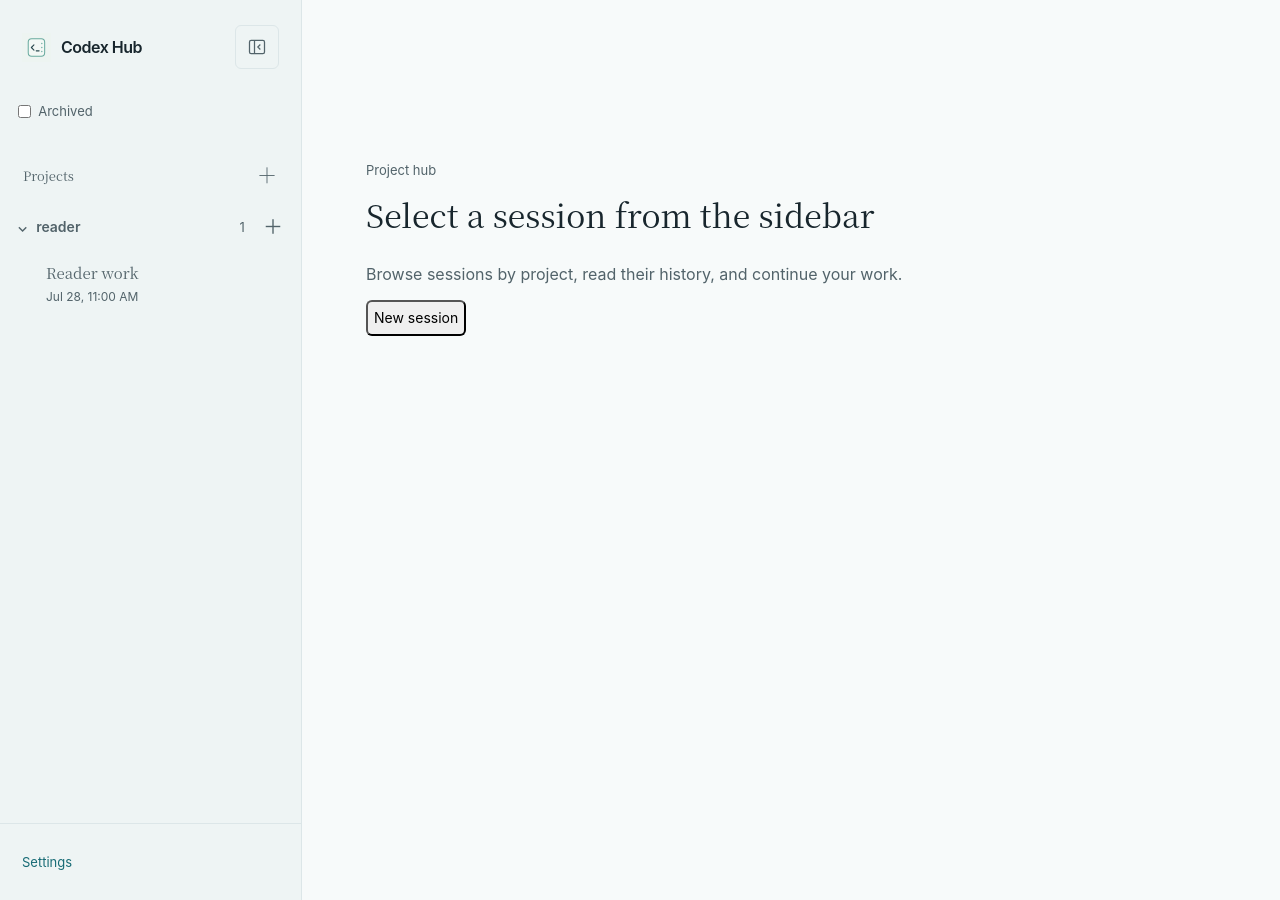
Test case: unified hub › uses project-prefilled creation dialogs and persists collapsed projects
Click the button named "New session in reader" at x=273, y=227, box [255,205,291,249]
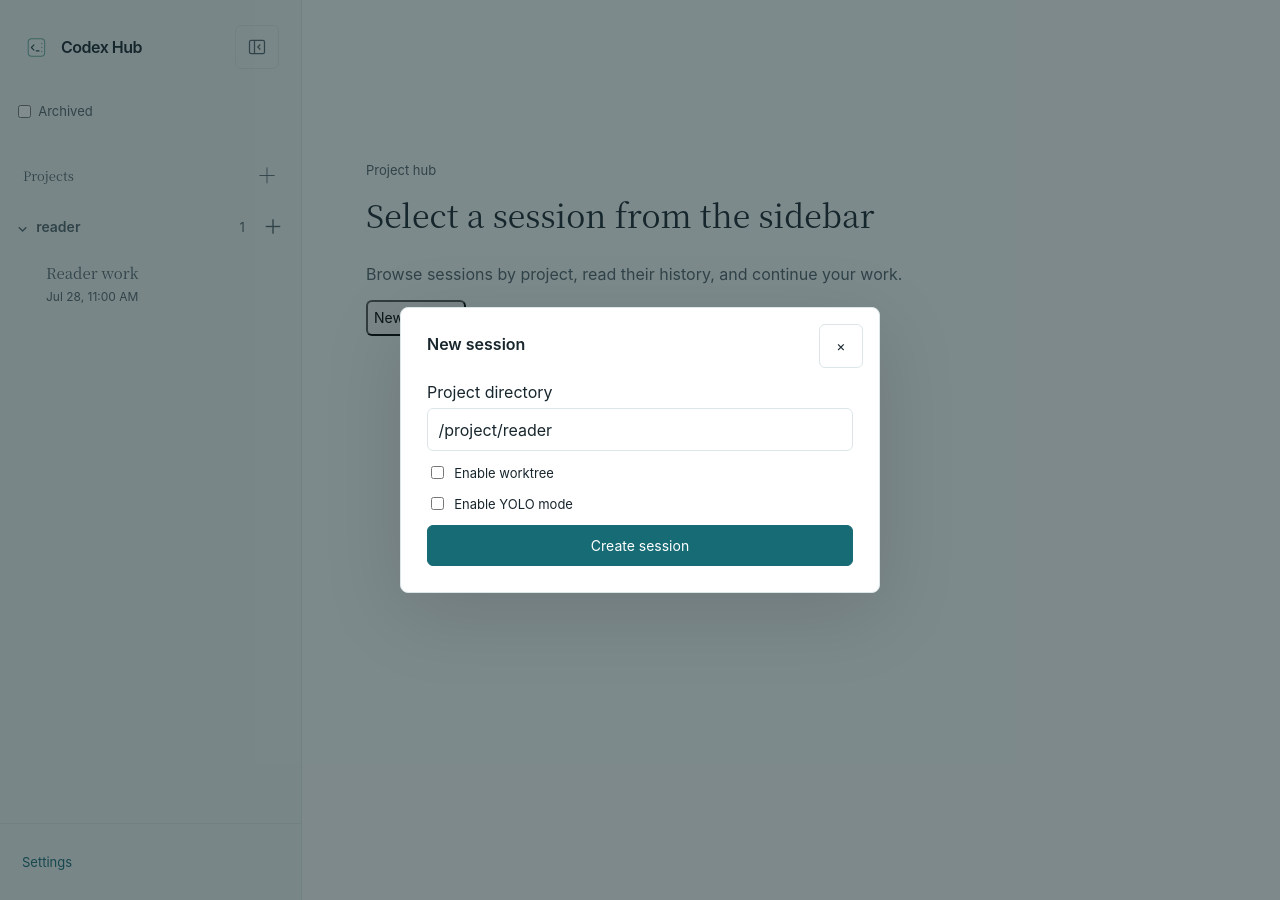
Expected: the dropdown labelled "Project directory" holds "/project/reader", [427,408,853,451]
Click the button named "Close new session" at x=841, y=346, box [819,324,863,368]
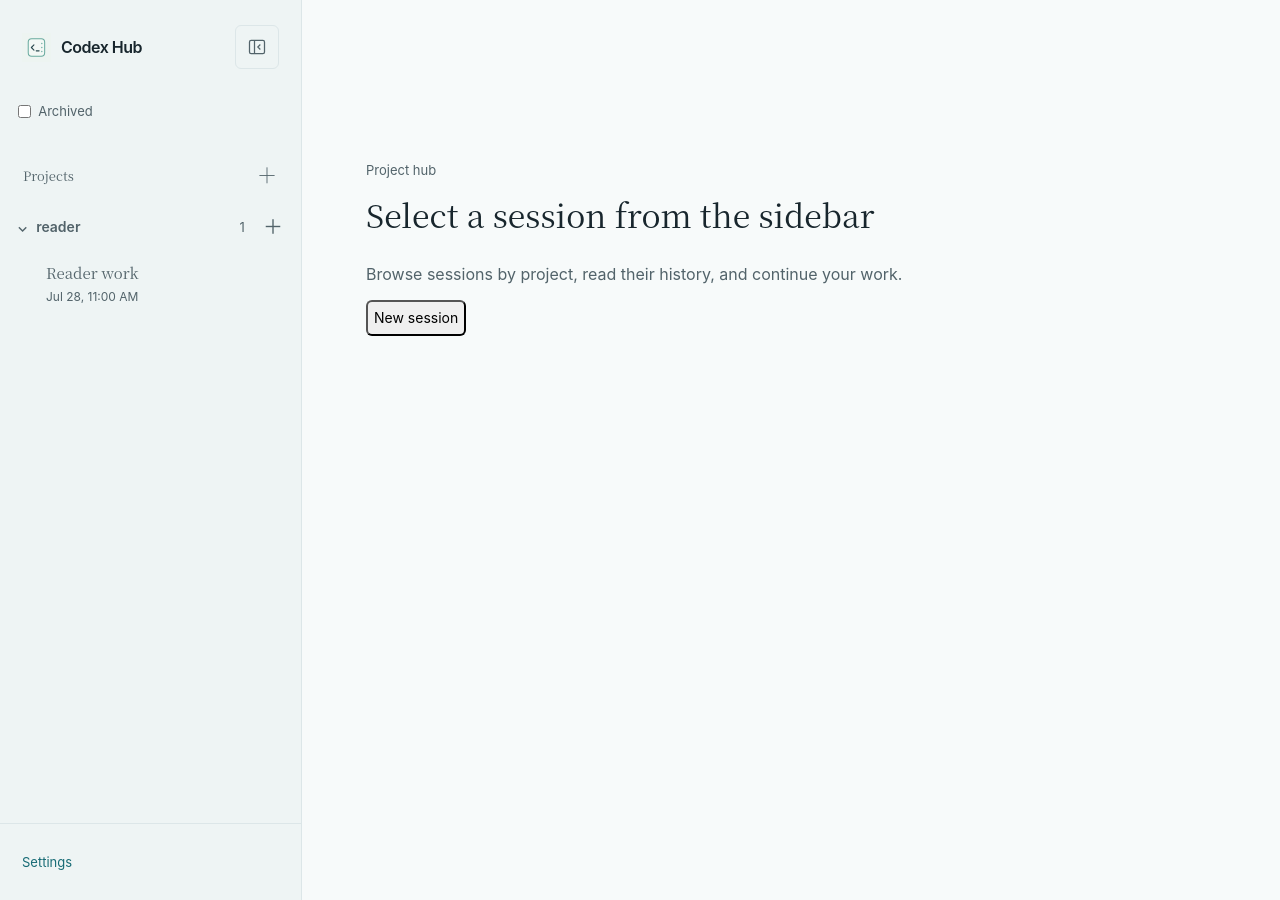
Click the button named "New session in reader" at x=273, y=227, box [255,205,291,249]
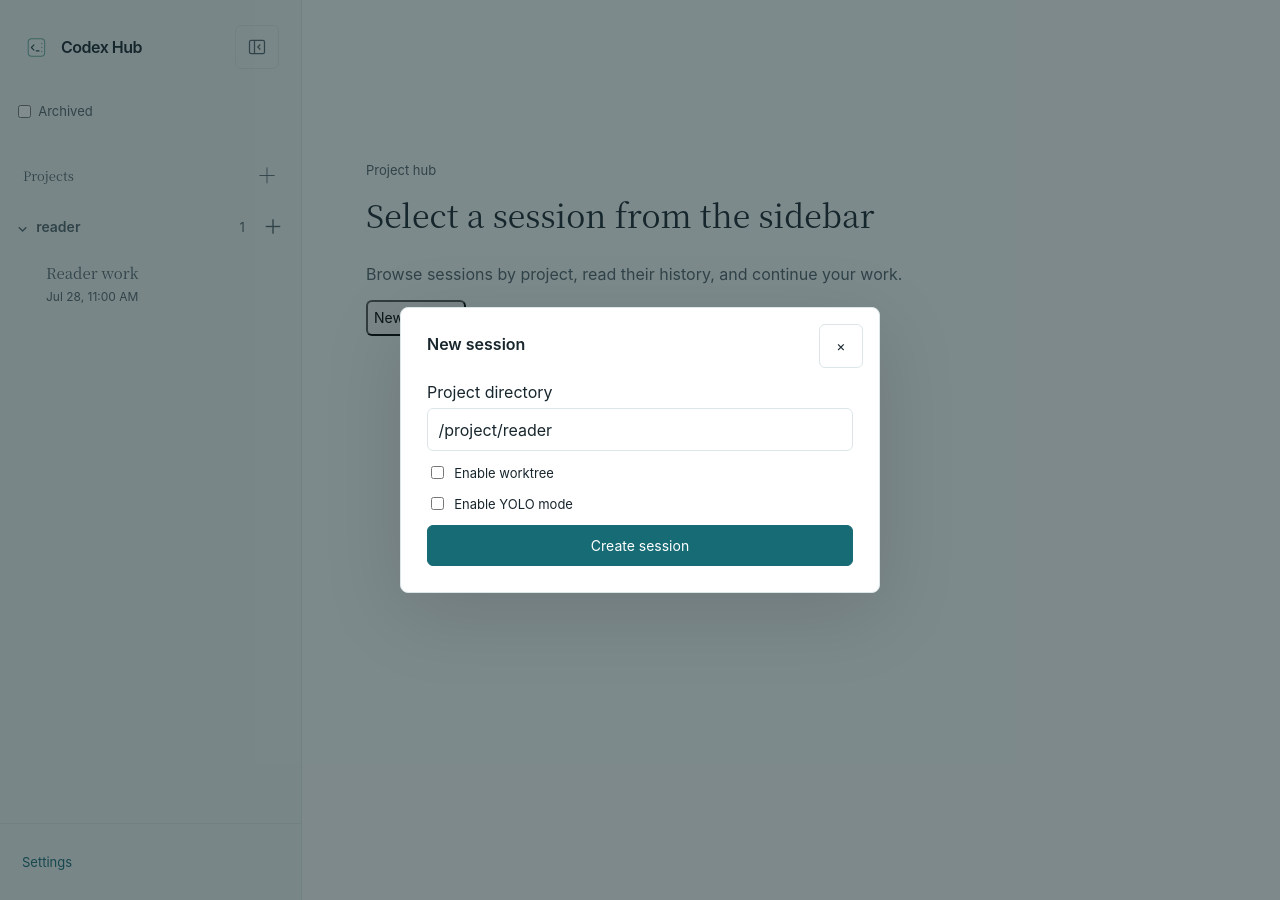
Focus the dropdown labelled "Project directory" at x=640, y=430, box [427,408,853,451]
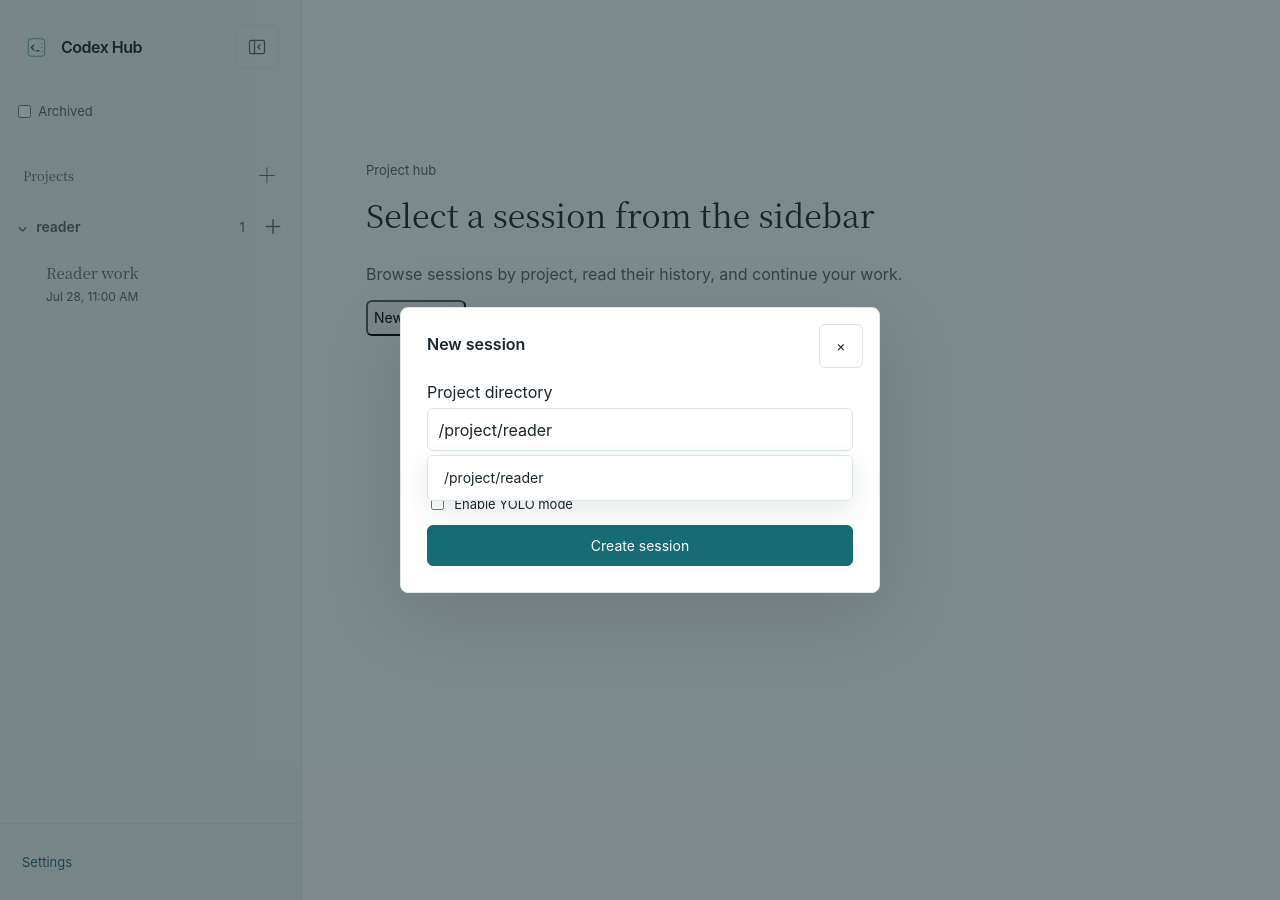
Expected: the list is shown, [427,455,853,501]
Click the button named "Close new session" at x=841, y=346, box [819,324,863,368]
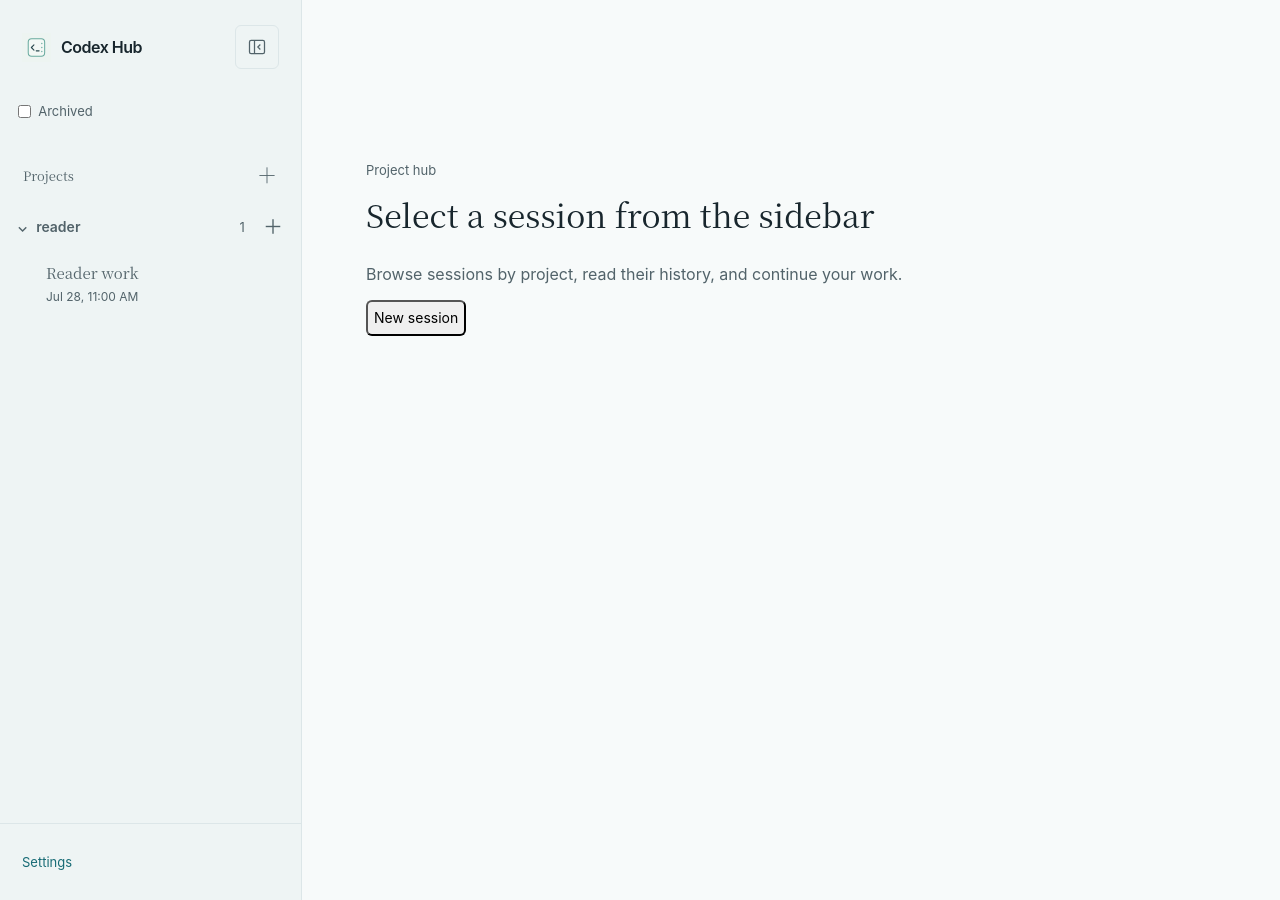
Click the button "⌄ reader 1" at x=131, y=227, box [10,205,252,249]
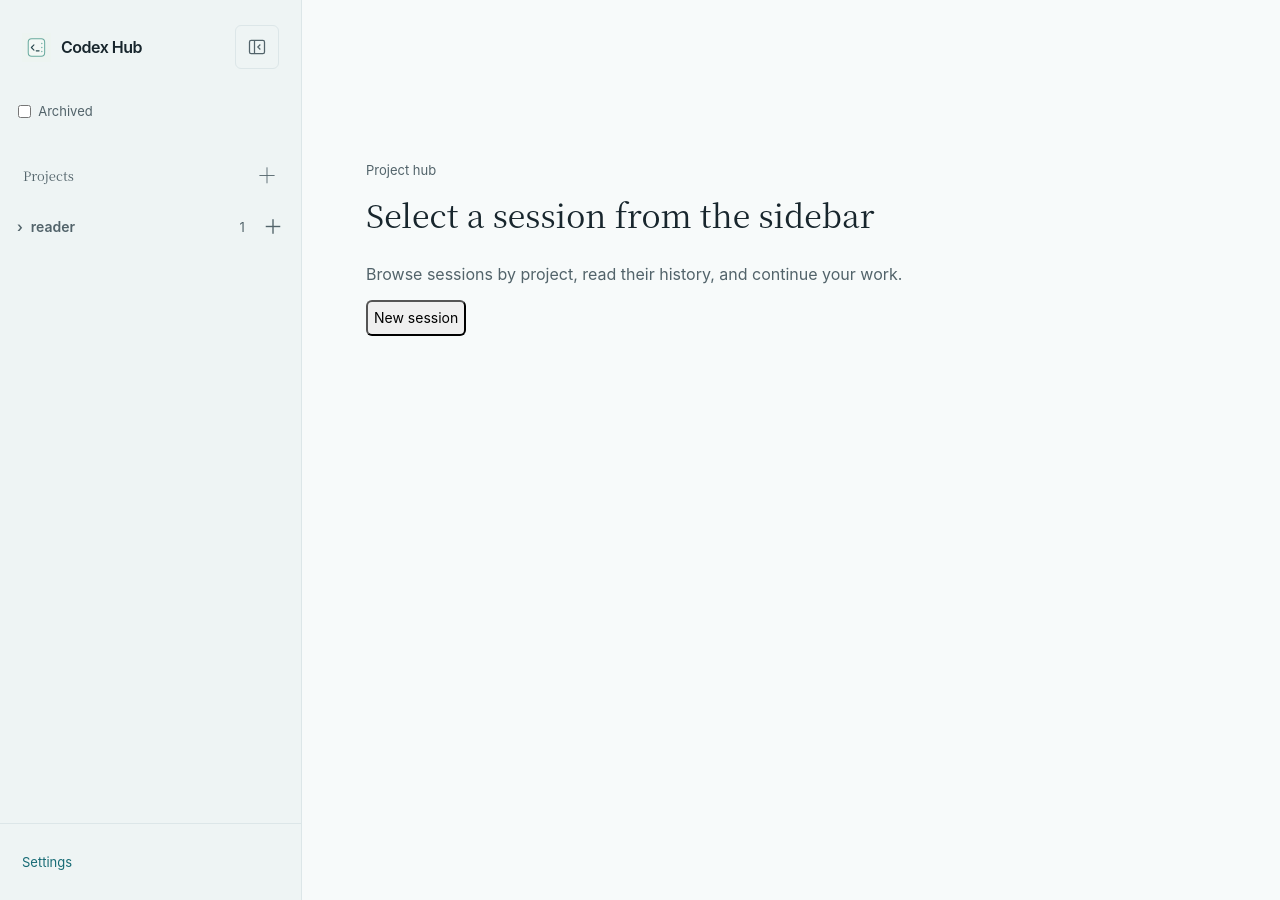
Expected: the link "Reader work" is gone
